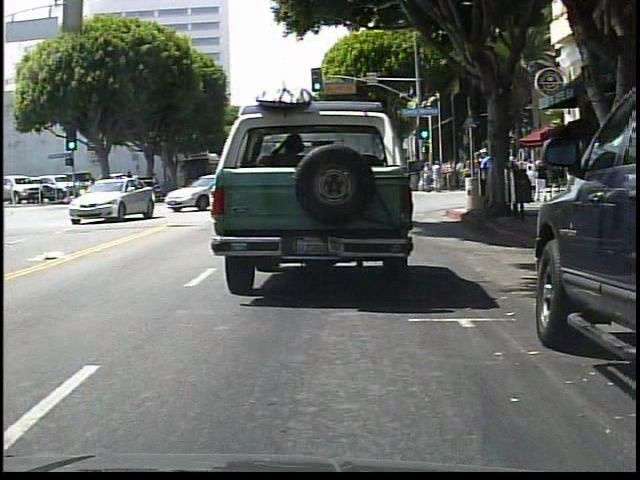person: (507, 152, 525, 221), (477, 147, 494, 207), (534, 157, 550, 205), (524, 164, 541, 206), (447, 159, 458, 192), (433, 160, 444, 193), (421, 161, 432, 193)
